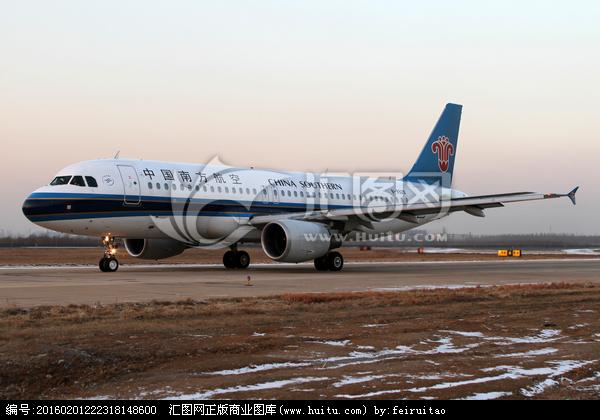airplane: (20, 99, 591, 274)
